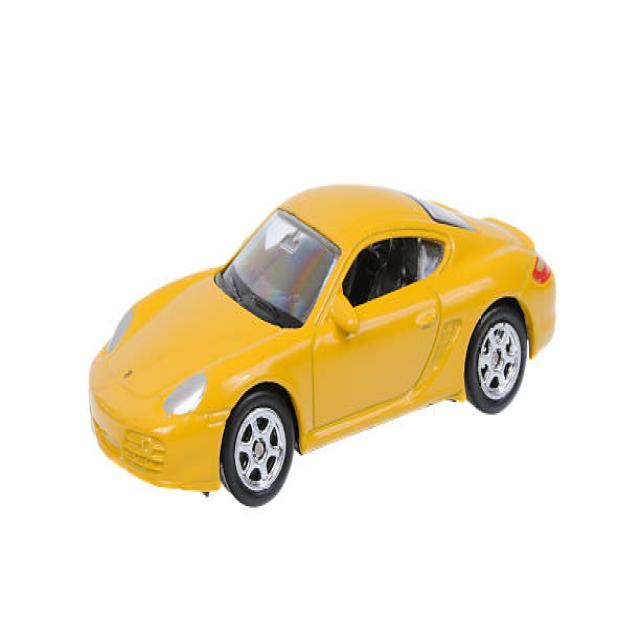Car: (88, 181, 556, 508)
